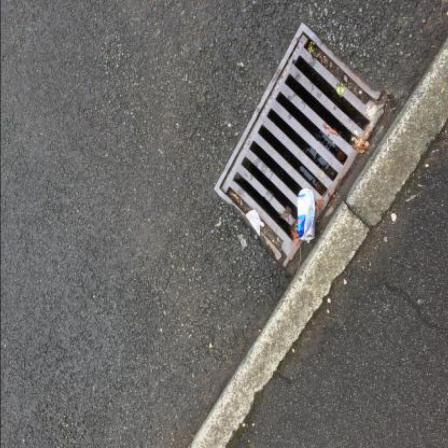Can: (298, 190, 317, 245)
Pop tab: (306, 237, 310, 245)
Unlabeled litter: (246, 210, 265, 237)
